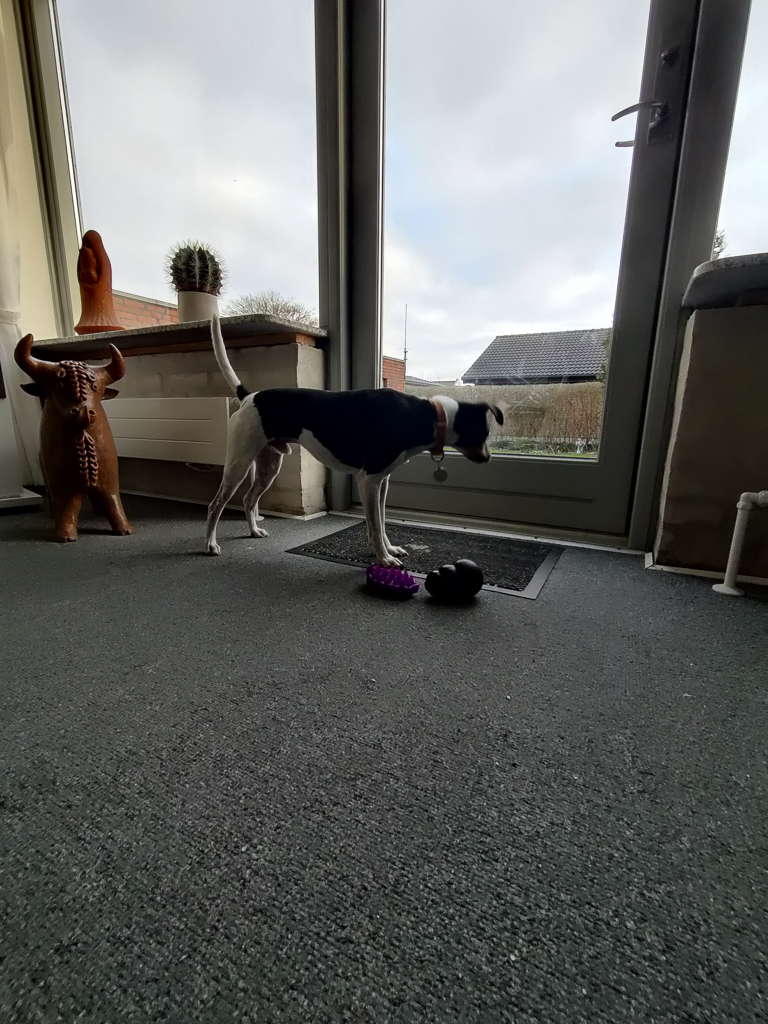Cattle: (6, 324, 145, 548)
Dog: (202, 308, 510, 576)
Humanoid: (71, 228, 129, 329)
